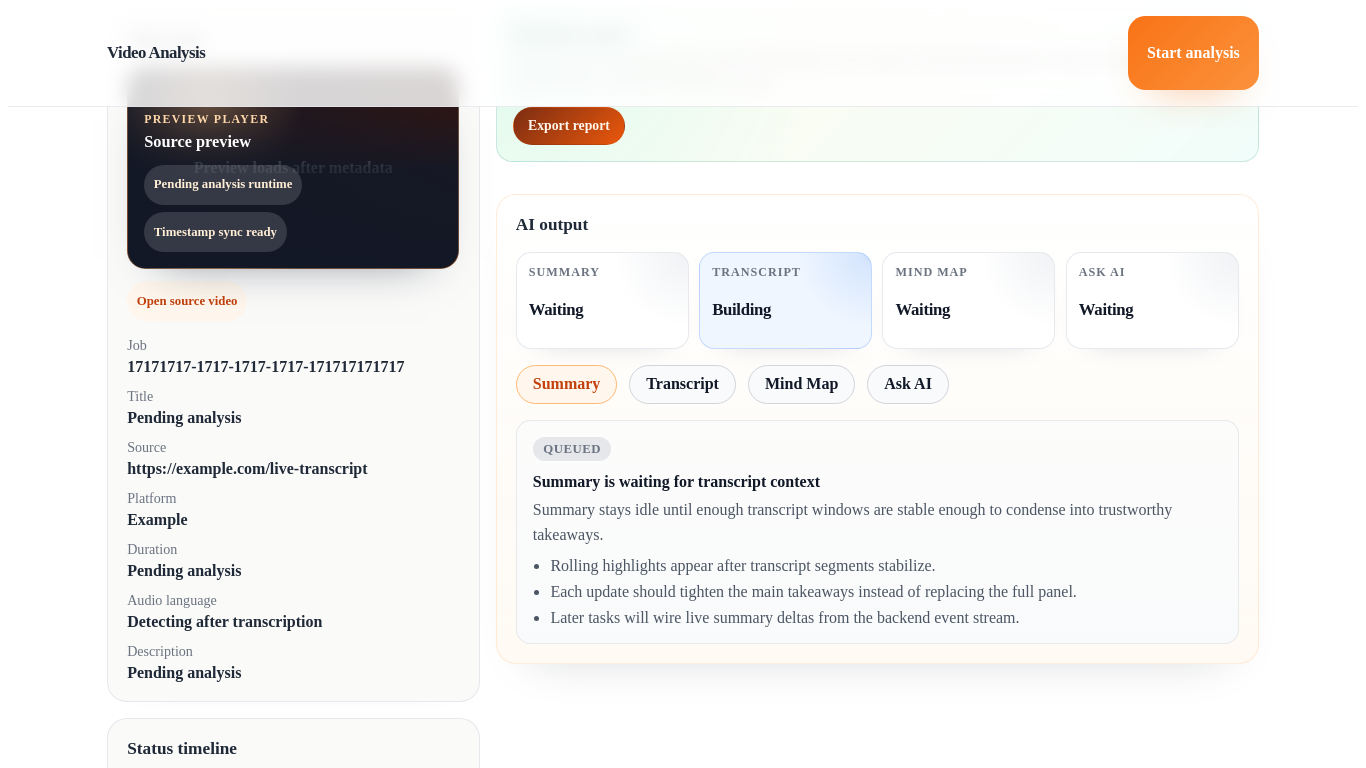
Scenario: streams transcript text into the transcript tab as segment events arrive
(page scrolled)
Click the tab "Transcript": (683, 384) [629,365,736,404]
(page scrolled)
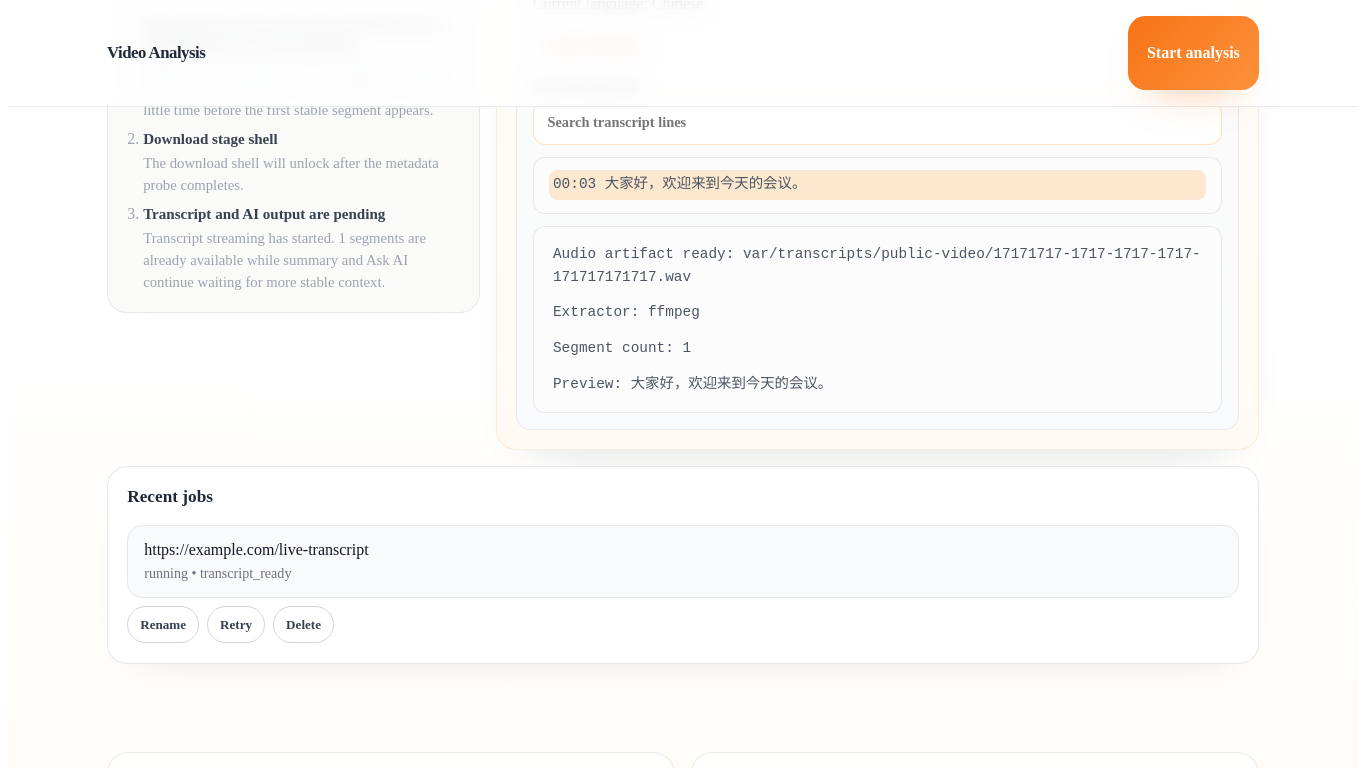
Expected: the text "大家好，欢迎来到今天的会议。" is shown, [605,176,806,192]
Expected: the text "00:03" is shown, [553,176,596,192]
Expected: the text "Segment count: 1" is shown, [553,340,691,356]
